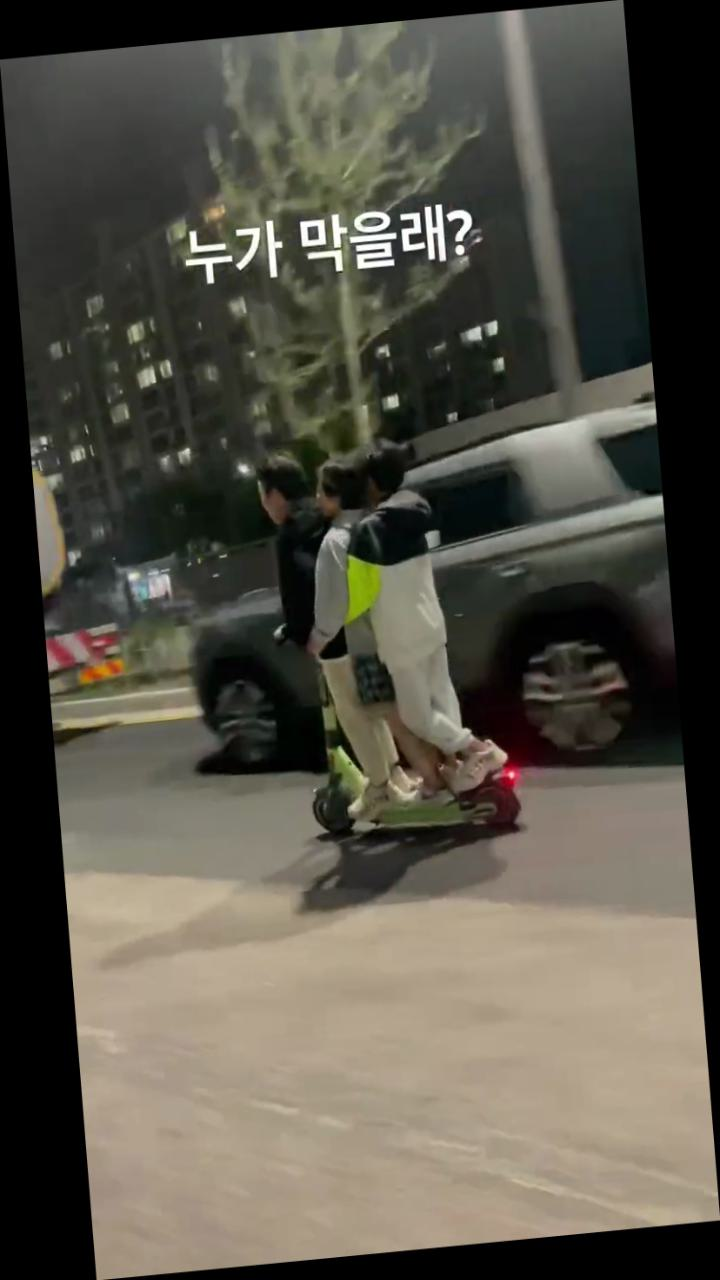multiple: (236, 425, 535, 865)
